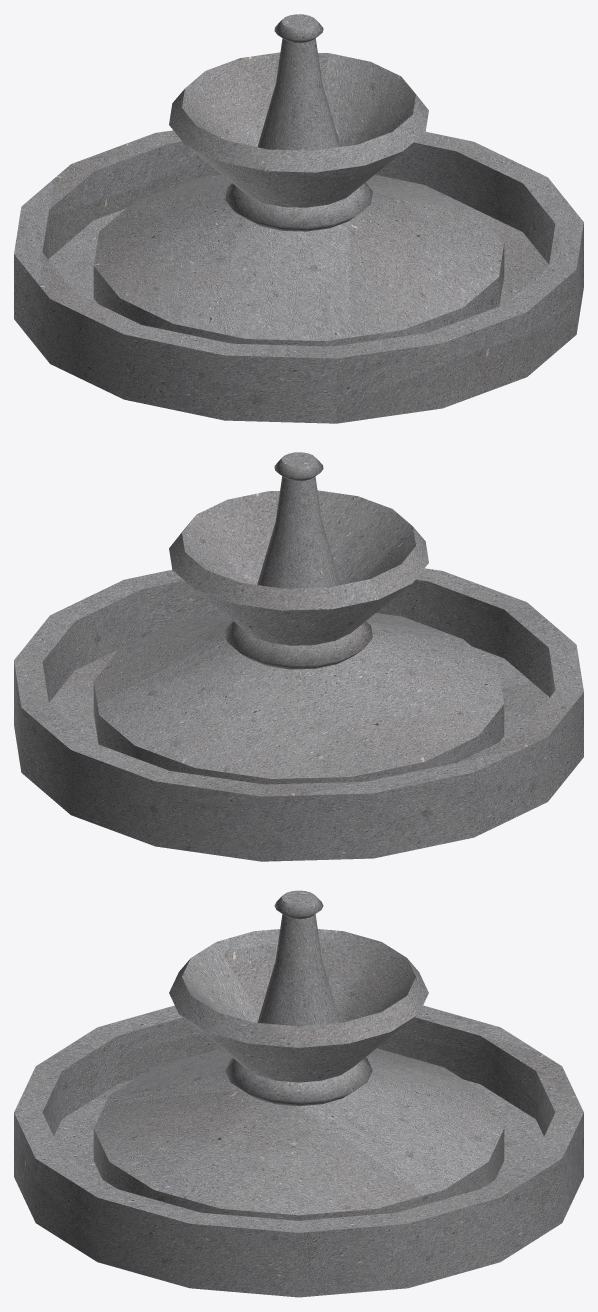
The model's file is Fountain.dae.
3 views of the same model, one above another, from view 1: azimuth 30°, elevation 25°; view 2: azimuth 150°, elevation 25°; view 3: azimuth 270°, elevation 25° (orthographic).
Parts seen in each view (by area): view 1: Fountain; view 2: Fountain; view 3: Fountain.
Boxes of the visible parts, <box> form: Fountain: <box>14,14,583,423</box>; Fountain: <box>14,452,583,861</box>; Fountain: <box>14,890,583,1297</box>.
Size of the model in its own units: 32 by 32 by 17.3.
